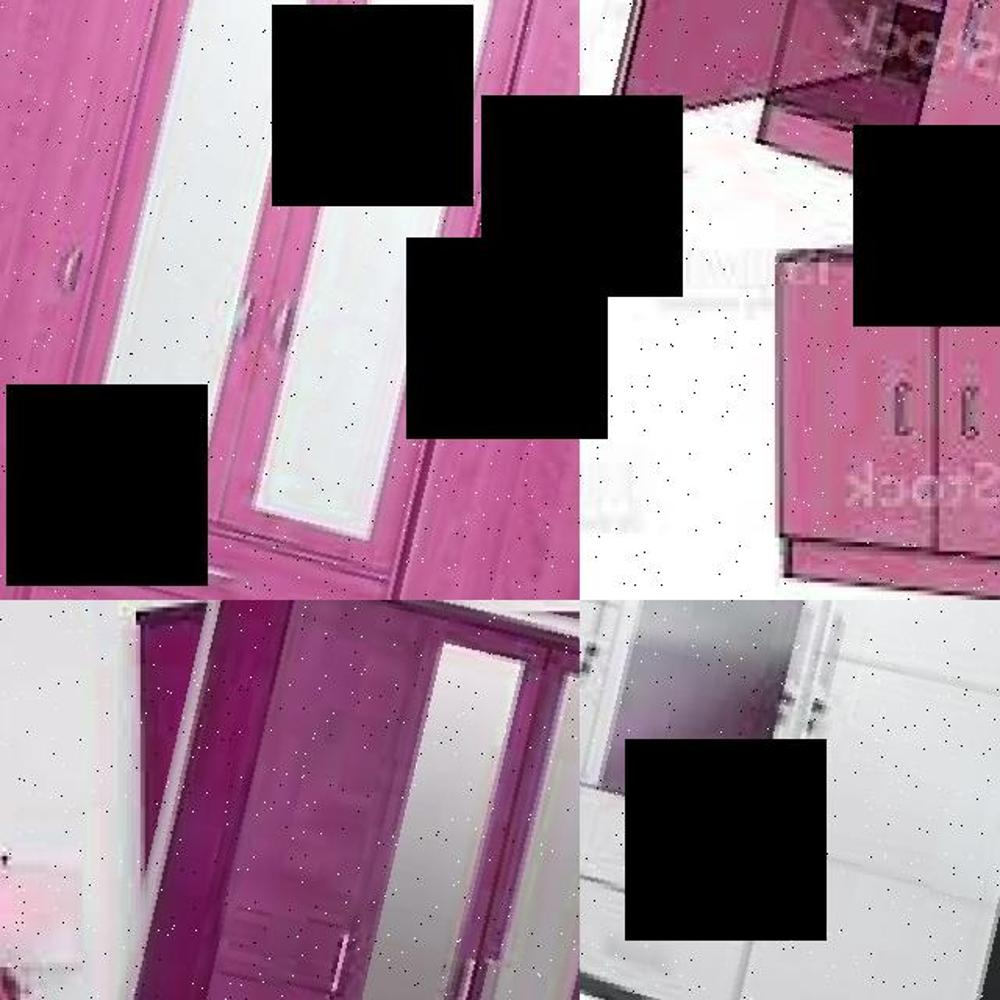cabinet: (0, 0, 580, 600), (88, 600, 580, 1000), (580, 600, 1000, 1000), (586, 0, 1000, 256), (738, 247, 1000, 600)
